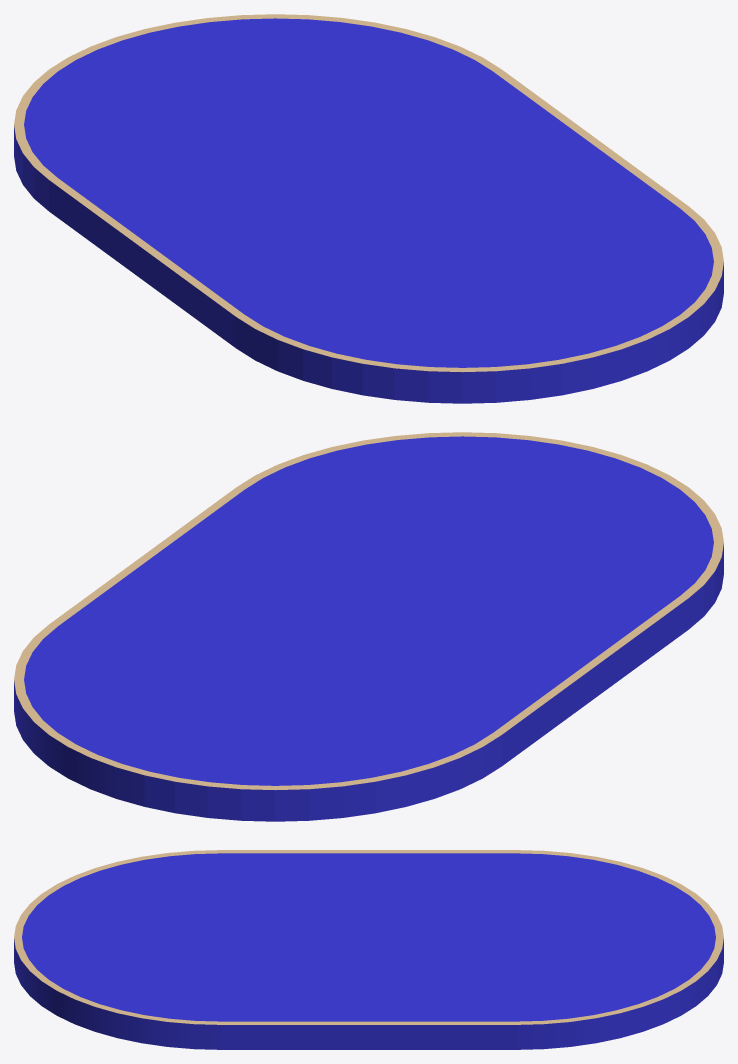
Rendered from players-table.dae.
3 renders of one model, top to bottom at view 1: azimuth 30°, elevation 25°; view 2: azimuth 150°, elevation 25°; view 3: azimuth 270°, elevation 25°, orthographic. The views are drawn at different scales.
Parts seen in each view (by area): view 1: group_1 (×2), group_0; view 2: group_1 (×2), group_0; view 3: group_1 (×2), group_0.
Part boxes in pixels (box(x1,y1,x2,y2)): group_1 (×2): box(14, 18, 723, 403); group_0: box(14, 14, 723, 372); group_1 (×2): box(14, 436, 723, 821); group_0: box(14, 432, 723, 790); group_1 (×2): box(14, 853, 723, 1049); group_0: box(14, 850, 723, 1024).
Bounding box in the file's own units: 41.34 × 70.93 × 2.76.
